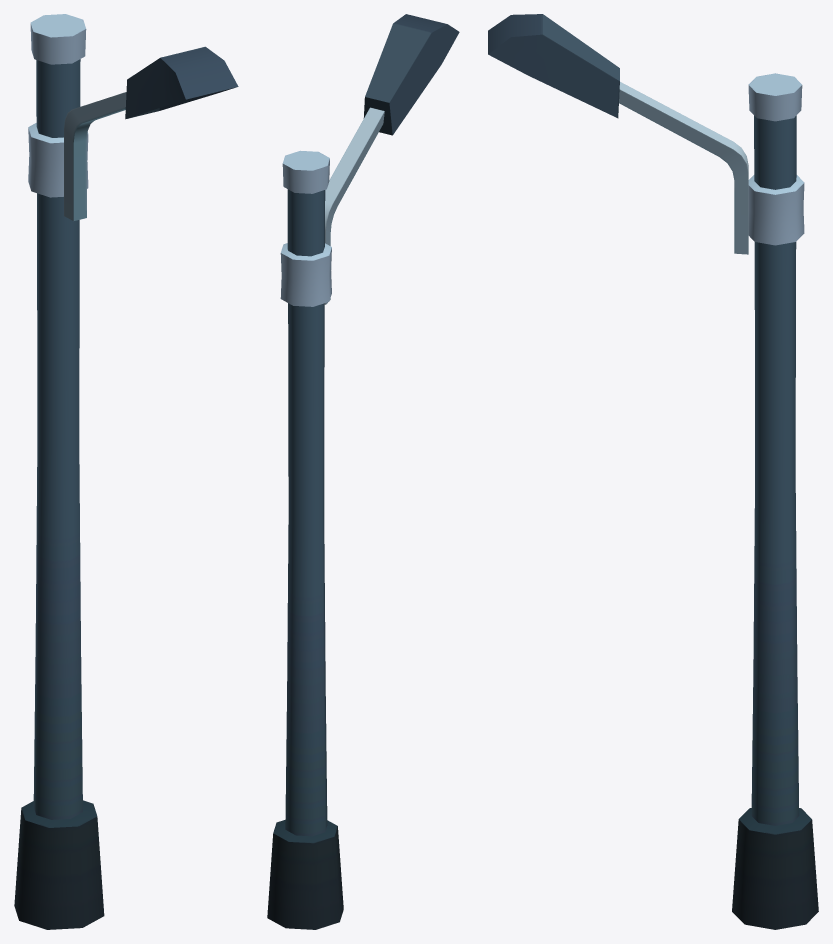
File: MESH_Lampadaire_01.fbx
The picture shows the model from 3 angles, left to right: view 1: azimuth 30°, elevation 25°; view 2: azimuth 150°, elevation 25°; view 3: azimuth 270°, elevation 25°; orthographic projection. The views are drawn at different scales.
Parts seen in each view (by area): view 1: MESH_Lampadaire_01; view 2: MESH_Lampadaire_01; view 3: MESH_Lampadaire_01.
Part boxes in pixels (box(x1,y1,x2,y2)): MESH_Lampadaire_01: box(14, 14, 238, 929); MESH_Lampadaire_01: box(267, 14, 459, 929); MESH_Lampadaire_01: box(488, 14, 818, 929).
Size of the model in its own units: 0.3689 by 4.15 by 1.4.
